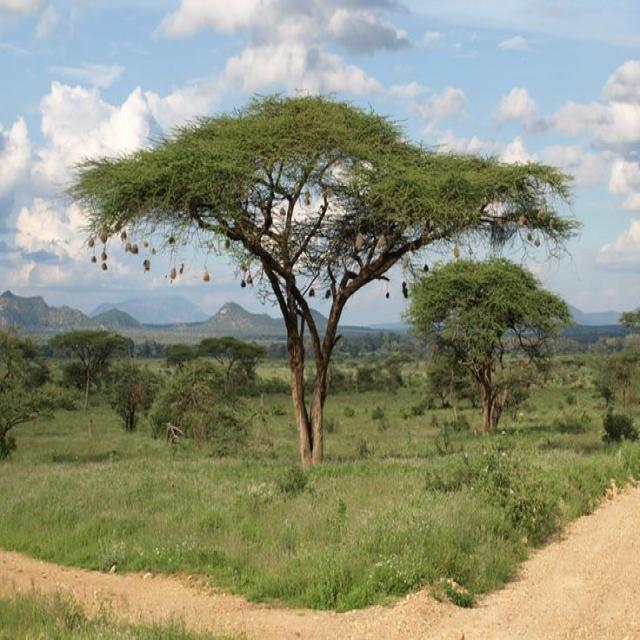Acacia: (77, 123, 558, 457)
